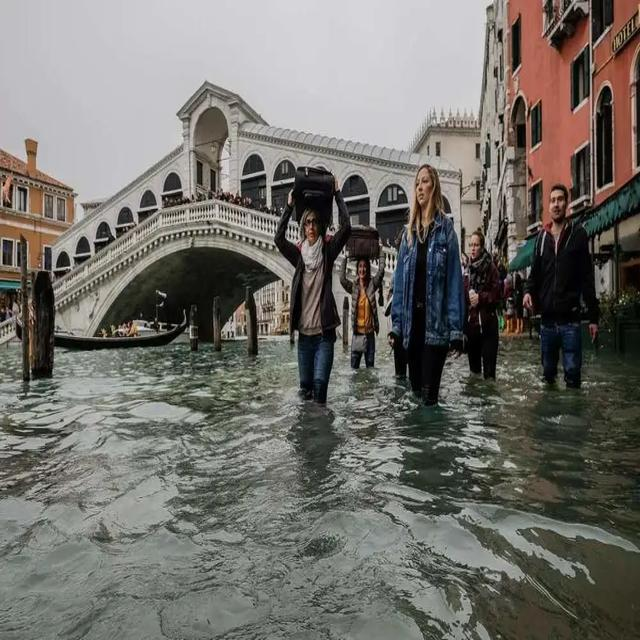Person-RiskLevel2: (268, 162, 354, 418), (512, 182, 608, 383), (395, 159, 449, 421), (458, 225, 503, 393), (337, 225, 384, 378)
